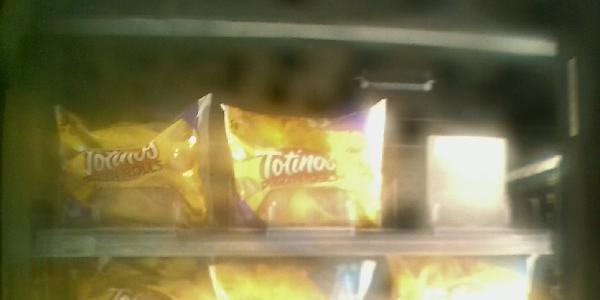icecream: (218, 98, 388, 233), (51, 99, 217, 236)
